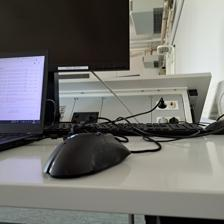mouse: (42, 130, 131, 180)
